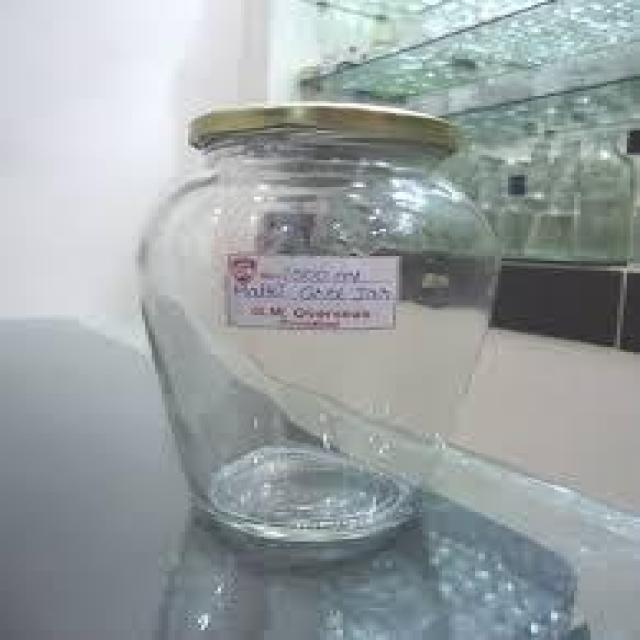Glass: (134, 100, 502, 546)
